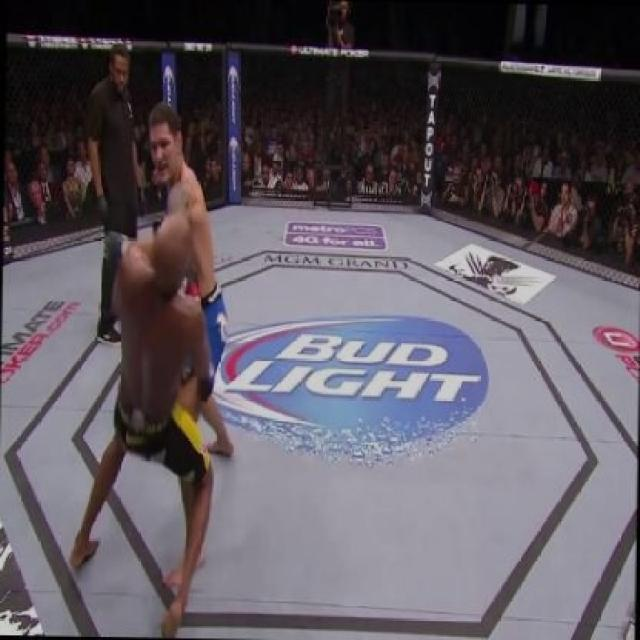fight: (74, 89, 254, 622)
non-fight: (83, 43, 155, 340)
